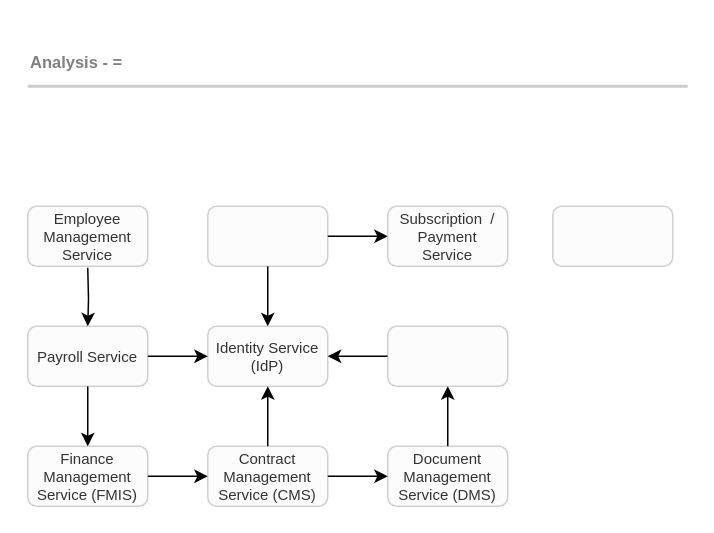
This 714x533 diagram has some shape labels left out. Here are the shapes that lost their labels. From the top down, the centre of each, then its label:
point 267,235: Client Management Service
point 612,235: Supplier Management Service
point 447,355: Communication Services
